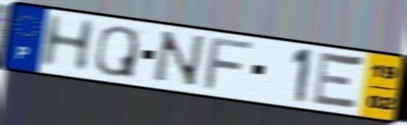1: (288, 46, 316, 105)
E: (309, 48, 368, 114)
F: (200, 36, 259, 93)
H: (35, 12, 99, 72)
N: (148, 29, 209, 90)
Q: (92, 24, 140, 81)
